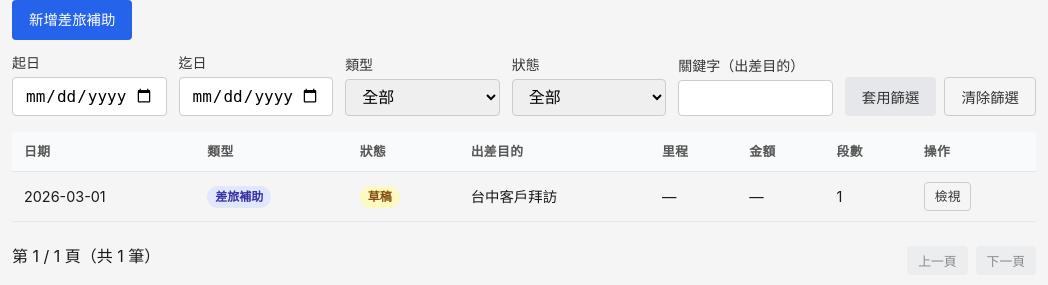
Test: ApplicationListSection › 篩選後無結果：顯示空白狀態，不得顯示錯誤訊息（AC-70）
Expected: the text "台中客戶拜訪" is shown, [459,171,650,222]
Type "不存在的關鍵字" into the field labelled "關鍵字（出差目的）" at (756, 98), box [678,80,833,116]
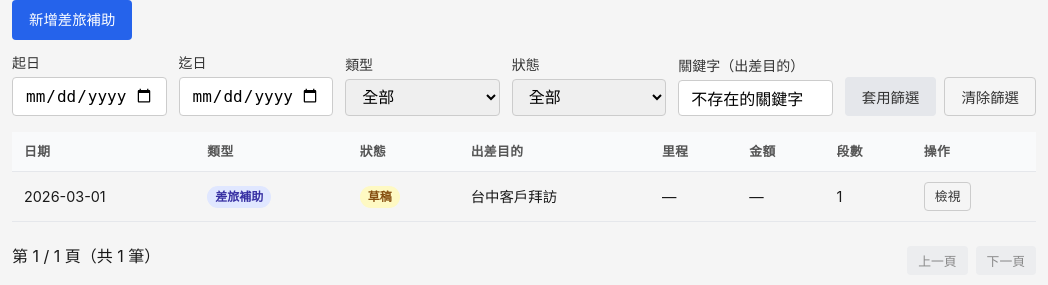
Click the button "套用篩選" at (891, 96), box [845,77,936,116]
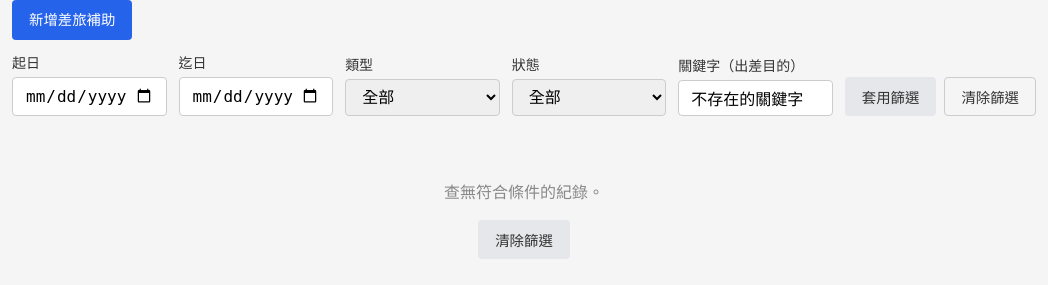
Expected: the text "查無符合條件的紀錄。" is shown, [444,182,604,202]
